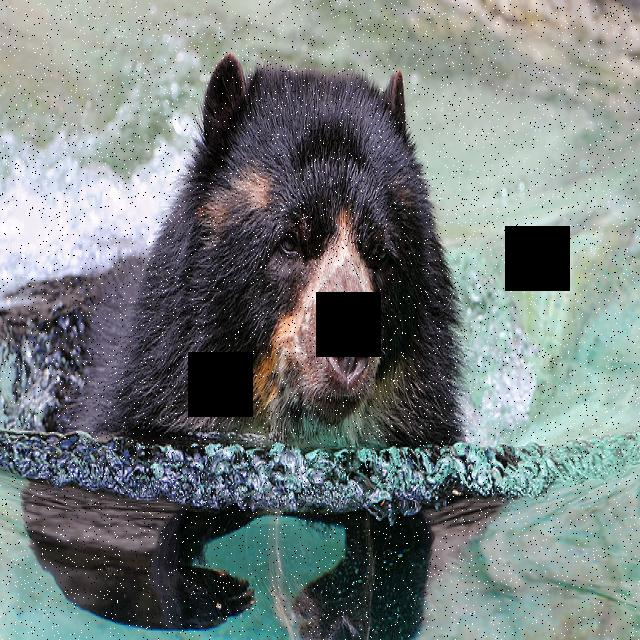Bear: (7, 46, 481, 640)
